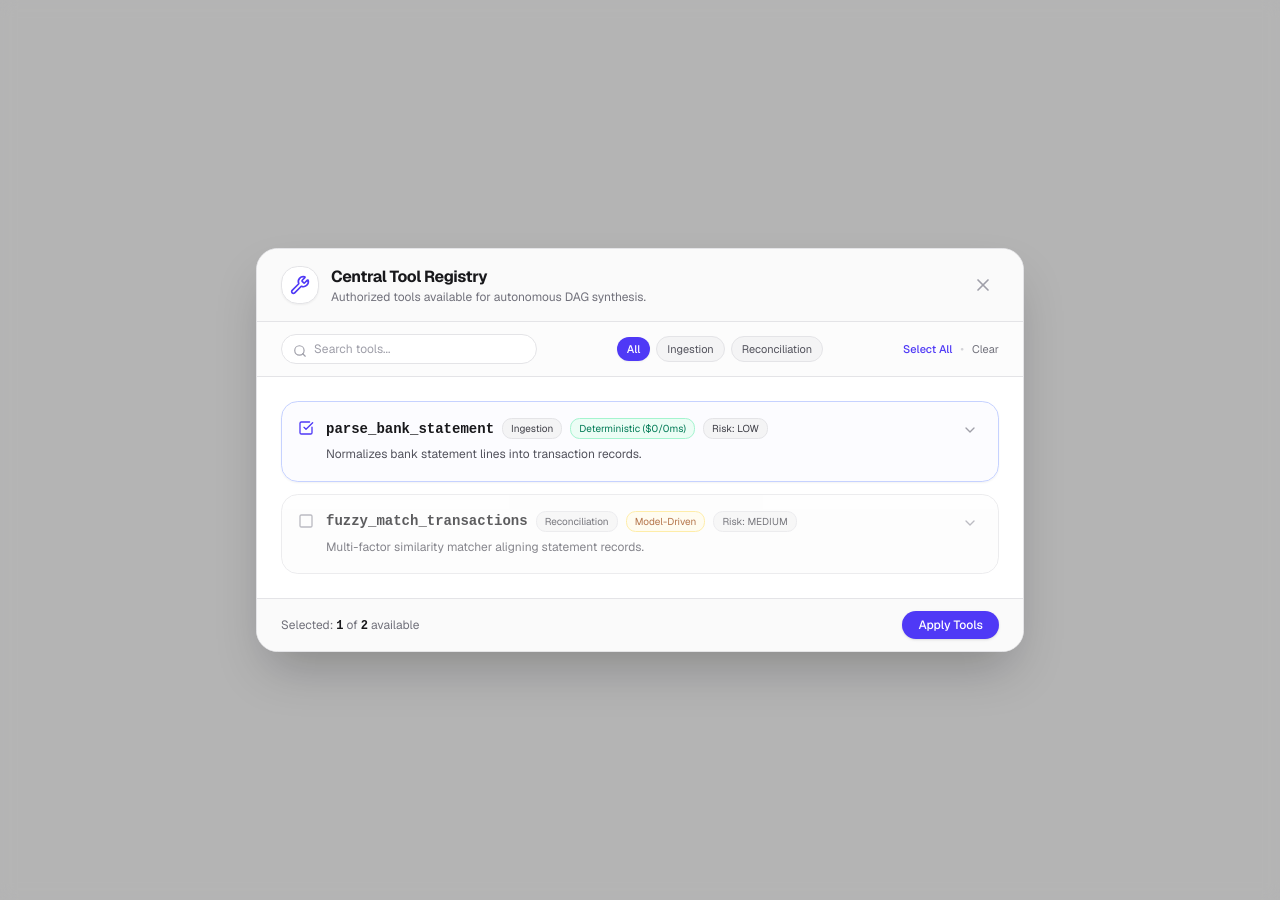
Scenario: ToolCatalogModal Component › renders tools and allows searching and toggling
expect the heading "Central Tool Registry" is shown: met, box top-left (331, 266), bottom-right (487, 287)
expect the text "parse_bank_statement" is shown: met, box top-left (326, 418), bottom-right (494, 438)
Type "fuzzy" into the field with placeholder "Search tools..." at (409, 349), box top-left (281, 334), bottom-right (537, 364)
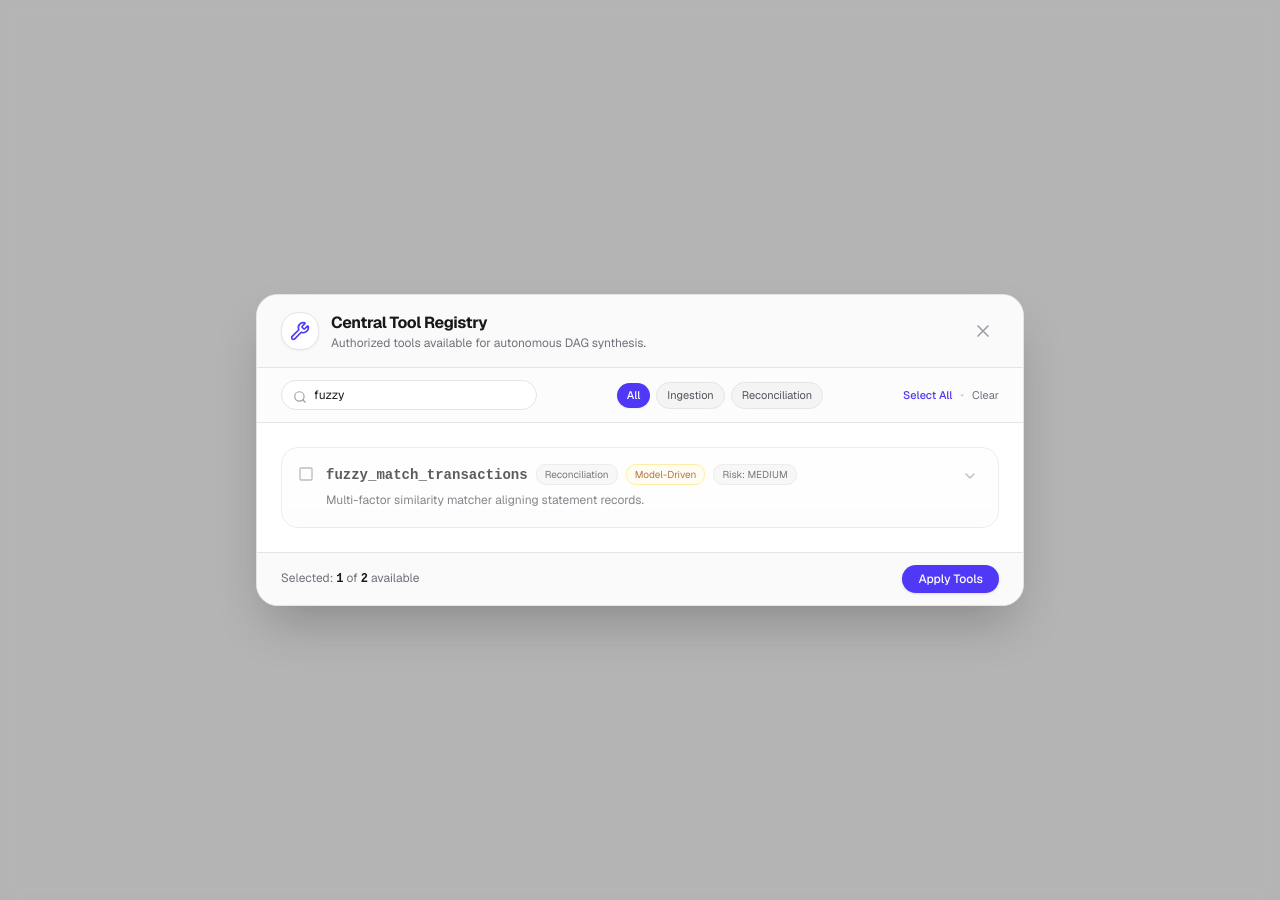
expect the text "fuzzy_match_transactions" is shown: met, box top-left (326, 465), bottom-right (528, 485)
expect the text "parse_bank_statement" is gone: met
